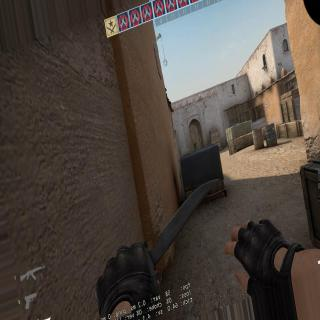CT-Body: (194, 142, 196, 149)
CT-Head: (195, 142, 196, 144)
